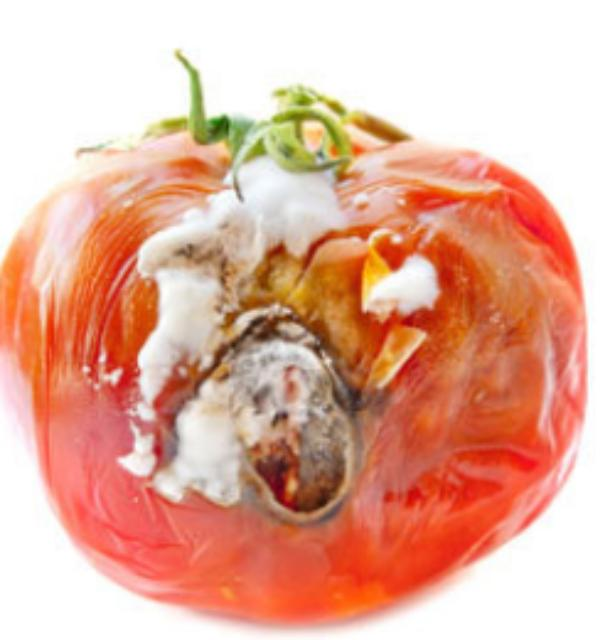defect: (0, 49, 591, 623)
